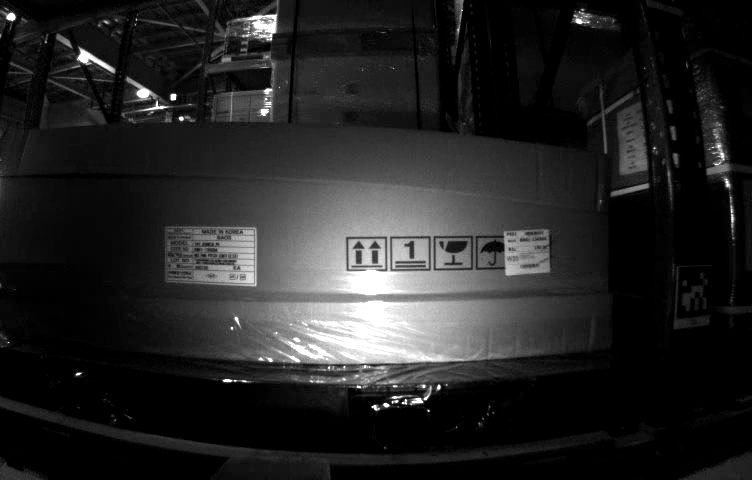True Barcode: (502, 228, 552, 276)
